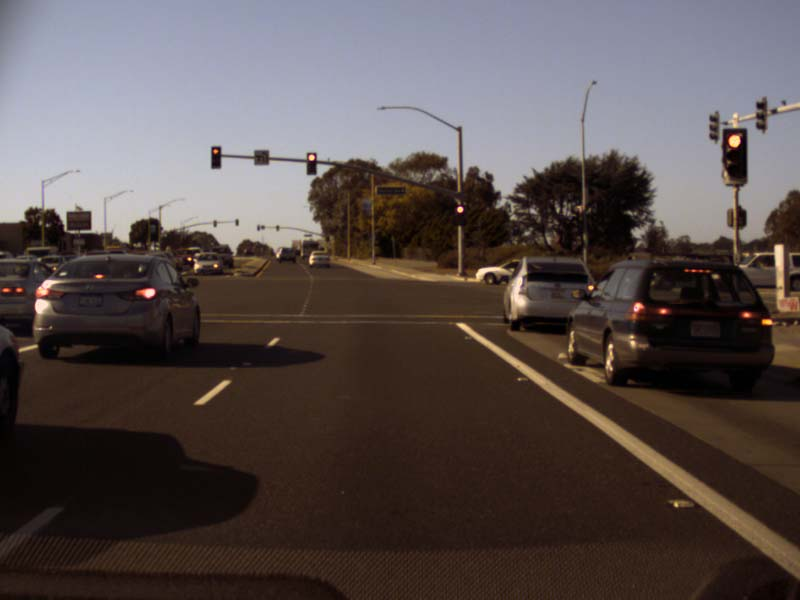Red: (723, 129, 745, 185), (307, 153, 315, 173), (211, 147, 219, 167), (455, 205, 463, 224)
